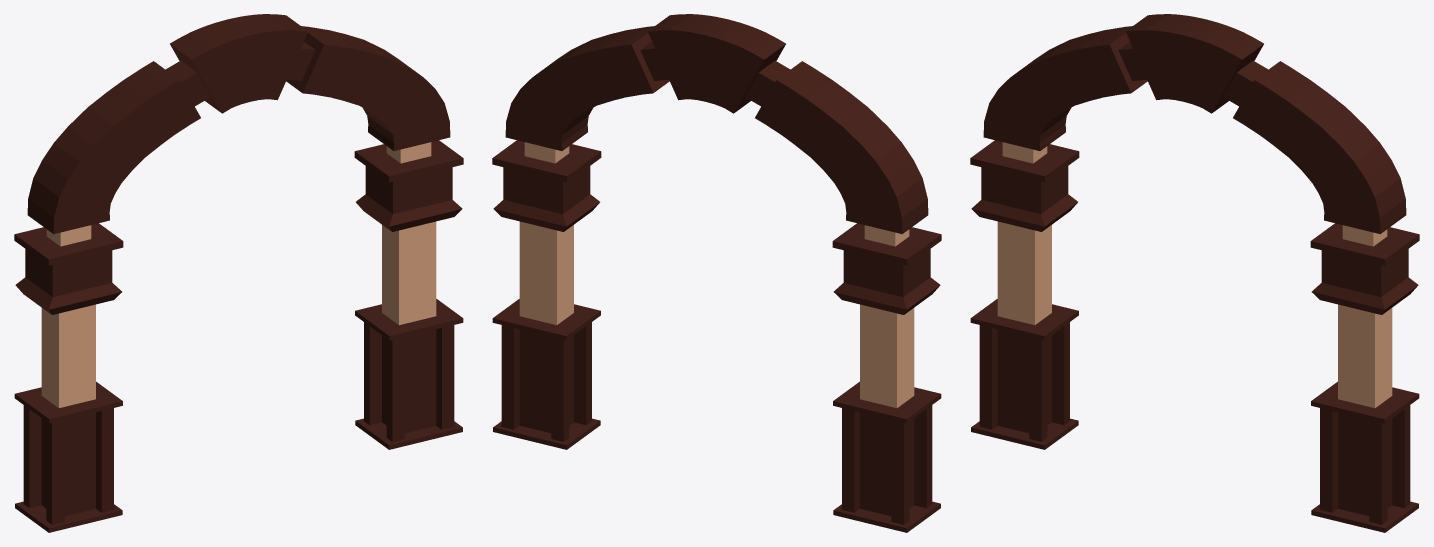
3 views of the same model, side by side, from view 1: azimuth 30°, elevation 25°; view 2: azimuth 150°, elevation 25°; view 3: azimuth 330°, elevation 25° (orthographic).
Visible parts, largest first — view 1: Gate.001; view 2: Gate.001; view 3: Gate.001.
Part boxes in pixels (x1,y1,x2,y2): Gate.001: [14, 14, 463, 532]; Gate.001: [492, 14, 941, 532]; Gate.001: [970, 14, 1419, 532].
Bounding box in the file's own units: 1.92 × 1.96 × 0.2786.
